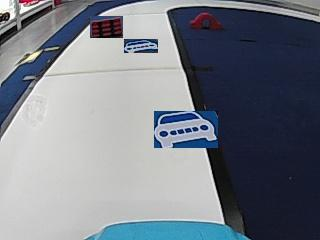bridge: (189, 12, 221, 29)
